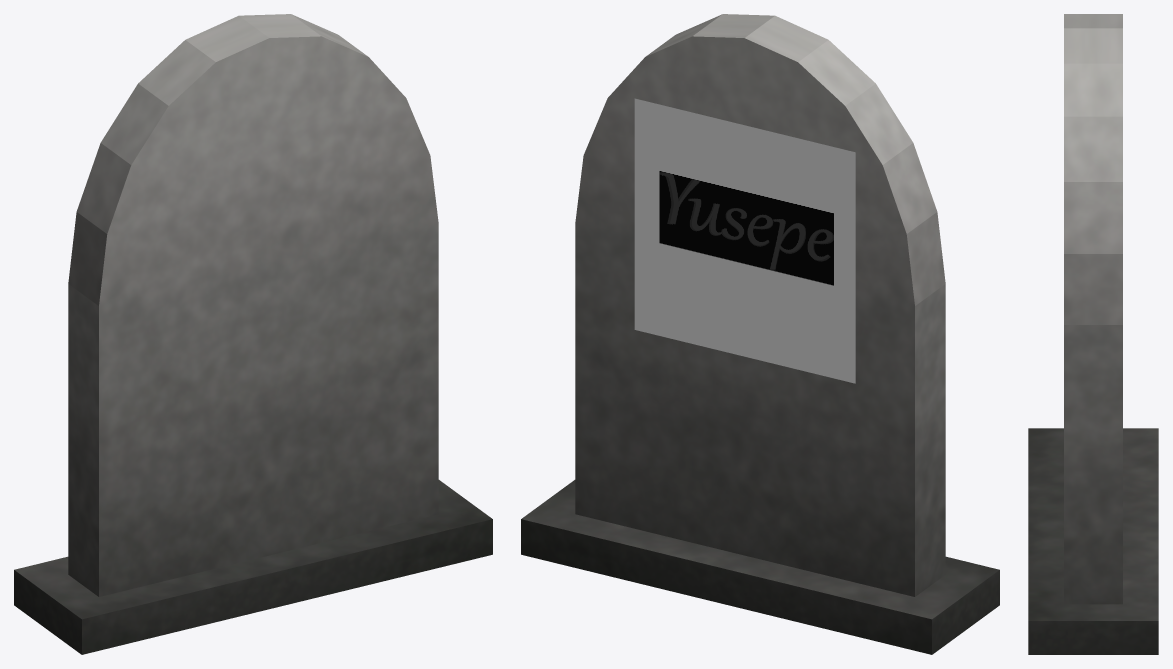
The model's file is tombston_model_01.fbx.
3 renders of one model, left to right at view 1: azimuth 30°, elevation 25°; view 2: azimuth 150°, elevation 25°; view 3: azimuth 270°, elevation 25°, orthographic. The views are drawn at different scales.
Parts seen in each view (by area): view 1: Cube; view 2: Cube, Plano; view 3: Cube.
Boxes of the visible parts, x1=… form: Cube: x1=14, y1=14, x2=492, y2=654; Cube: x1=521, y1=14, x2=999, y2=654; Plano: x1=634, y1=98, x2=855, y2=383; Cube: x1=1028, y1=14, x2=1158, y2=654.
Bounding box in the file's own units: 0.7 × 0.9 × 0.2.
